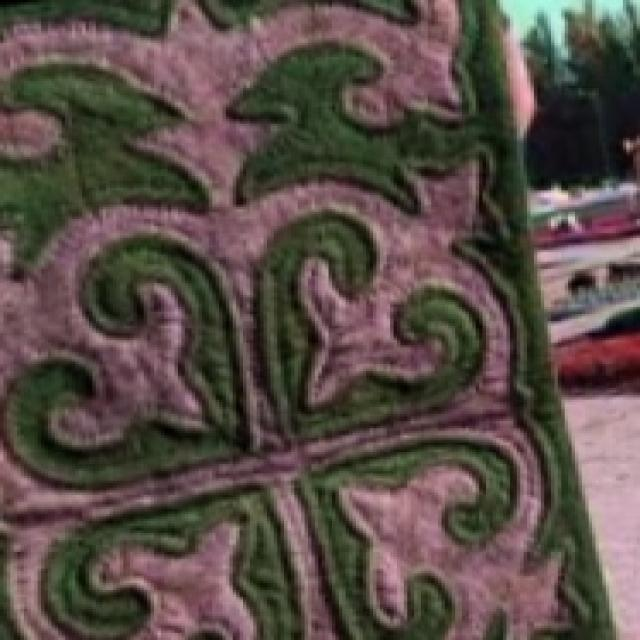Unity: (0, 140, 637, 638)
